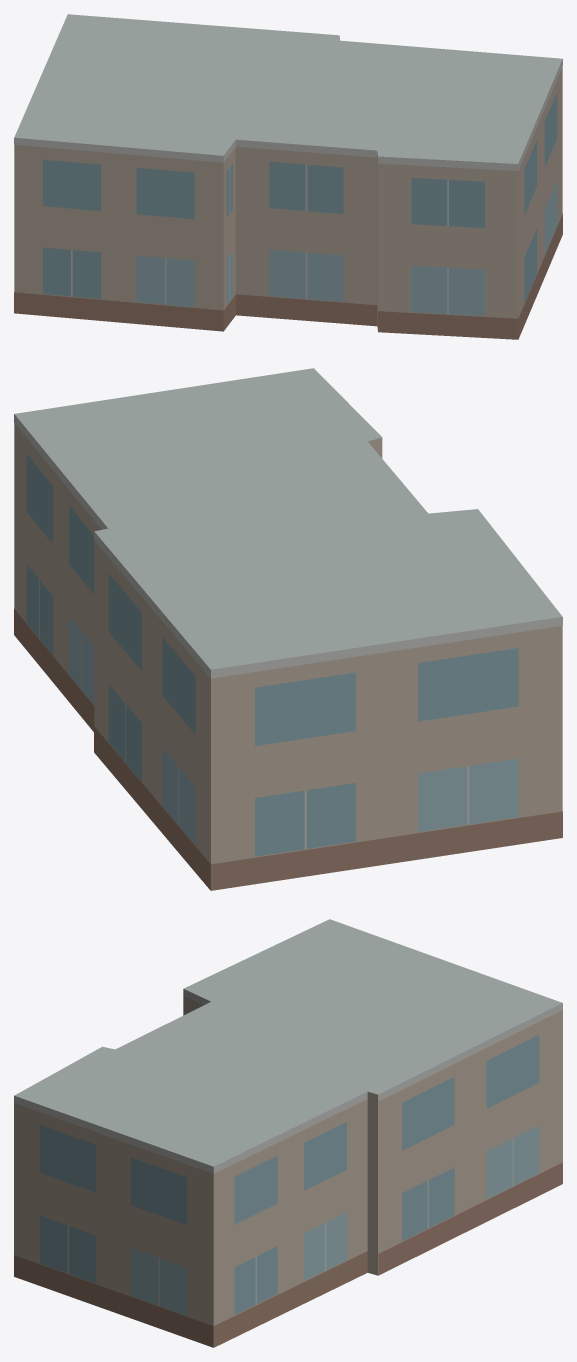
Rendered from survey-upis-33009431.glb.
3 views of the same model, one above another, from view 1: azimuth 30°, elevation 25°; view 2: azimuth 150°, elevation 25°; view 3: azimuth 270°, elevation 25° (orthographic). The views are drawn at different scales.
Visible parts, largest first — view 1: survey-upis-33009431.tmp; view 2: survey-upis-33009431.tmp; view 3: survey-upis-33009431.tmp.
Part boxes in pixels (box(x1,y1,x2,y2)): survey-upis-33009431.tmp: box(14, 14, 562, 339); survey-upis-33009431.tmp: box(14, 368, 562, 890); survey-upis-33009431.tmp: box(14, 919, 562, 1347).
Size of the model in its own units: 17.9 by 6.1 by 16.76.
